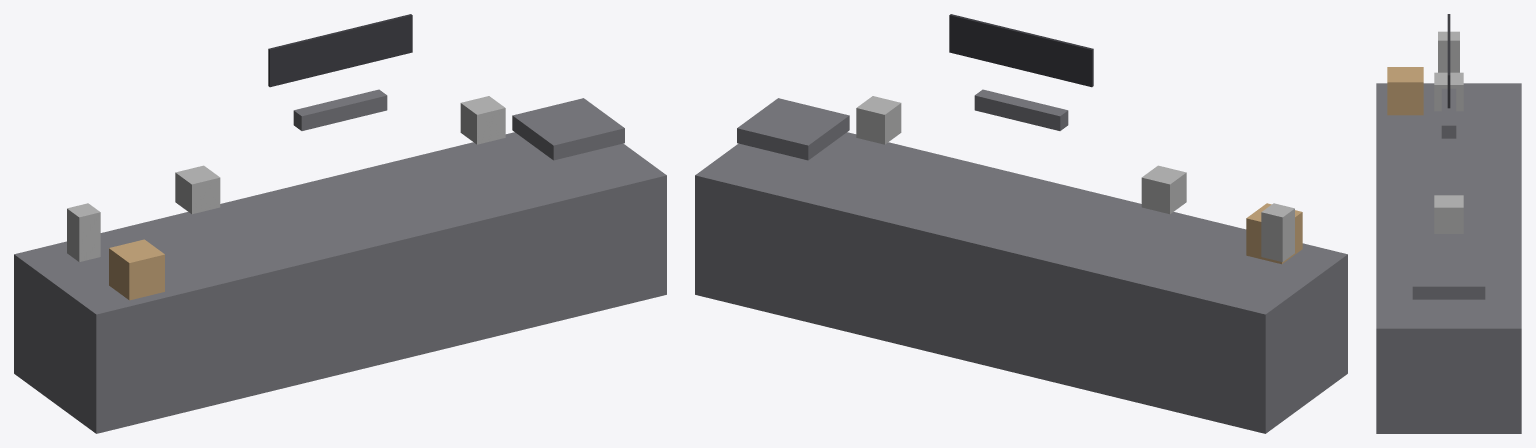
File: mini-conveyor.gltf
3 renders of one model, left to right at view 1: azimuth 30°, elevation 25°; view 2: azimuth 150°, elevation 25°; view 3: azimuth 270°, elevation 25°, orthographic. The views are drawn at different scales.
Visible parts, largest first — view 1: base, panel, lift, crate, spinner, lamp_2, lamp_1, alarm; view 2: base, panel, lift, spinner, lamp_2, lamp_1, alarm, crate; view 3: base, lift, crate, lamp_2, lamp_1, alarm, spinner, panel.
Part boxes in pixels (x1,y1,x2,y2): base: (14,132,666,433); panel: (268,14,412,87); lift: (512,98,624,160); crate: (109,239,164,300); spinner: (293,89,387,130); lamp_2: (460,96,505,144); lamp_1: (175,165,220,214); alarm: (67,203,100,262); base: (695,132,1347,433); panel: (949,14,1093,87); lift: (737,98,849,160); spinner: (974,89,1068,130); lamp_2: (856,96,901,144); lamp_1: (1141,165,1186,214); alarm: (1261,203,1294,262); crate: (1246,203,1302,264); base: (1376,83,1521,433); lift: (1412,256,1485,299); crate: (1387,67,1423,115); lamp_2: (1434,195,1463,233); lamp_1: (1434,72,1463,111); alarm: (1438,31,1459,72); spinner: (1441,88,1456,138); panel: (1447,14,1450,108).
Size of the model in its own units: 4 by 2.02 by 1.
